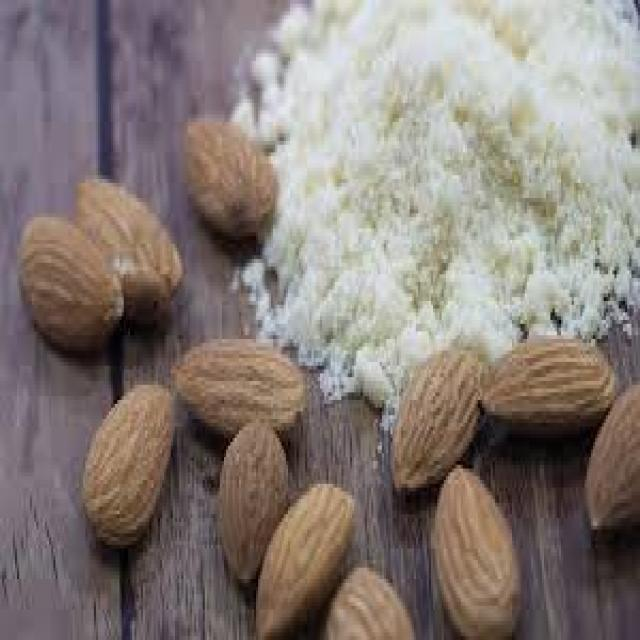almond: (250, 481, 359, 640), (429, 464, 526, 640), (14, 212, 128, 357), (72, 173, 186, 314), (85, 383, 180, 546), (388, 345, 489, 496), (172, 335, 304, 441), (214, 418, 295, 585), (481, 337, 628, 429), (182, 116, 278, 235), (583, 384, 640, 537), (319, 567, 423, 640)
